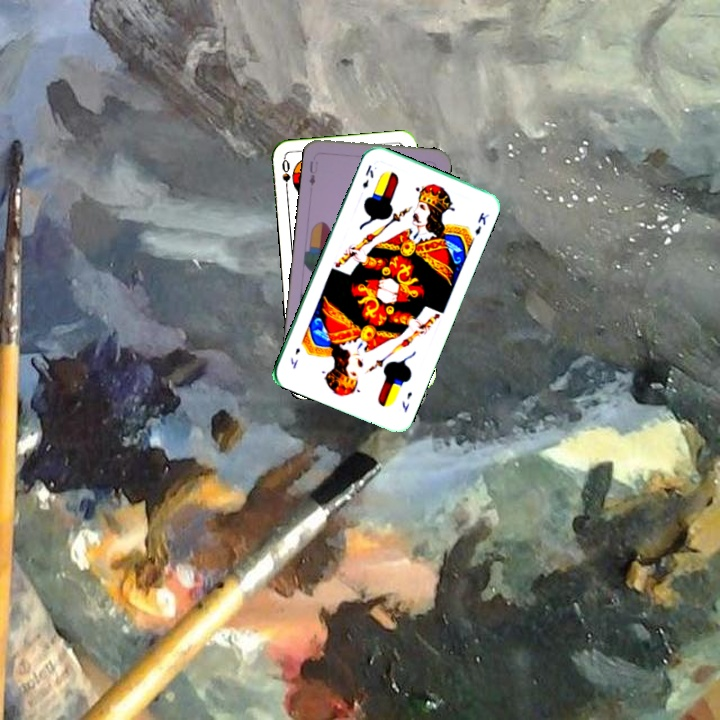EK: (358, 161, 376, 191), (398, 388, 415, 415)
EU: (305, 157, 320, 188)
SO: (278, 155, 293, 195)
